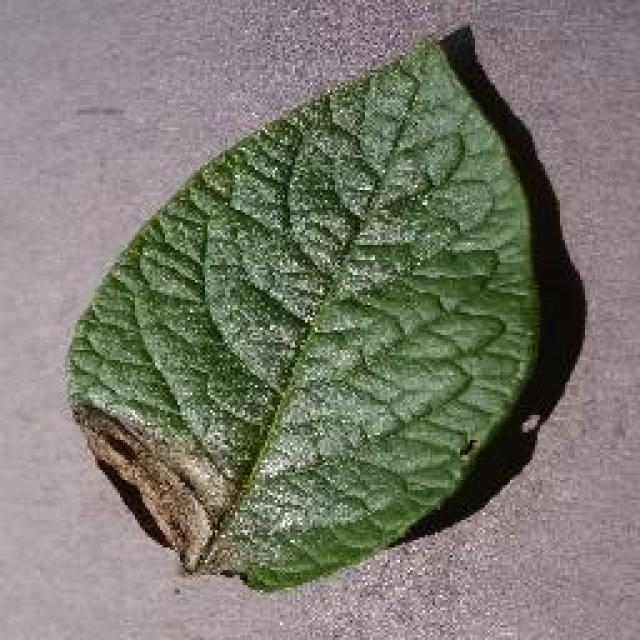late_blight: (60, 23, 552, 595)
